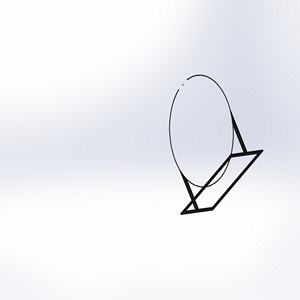circle: (165, 72, 264, 216)
